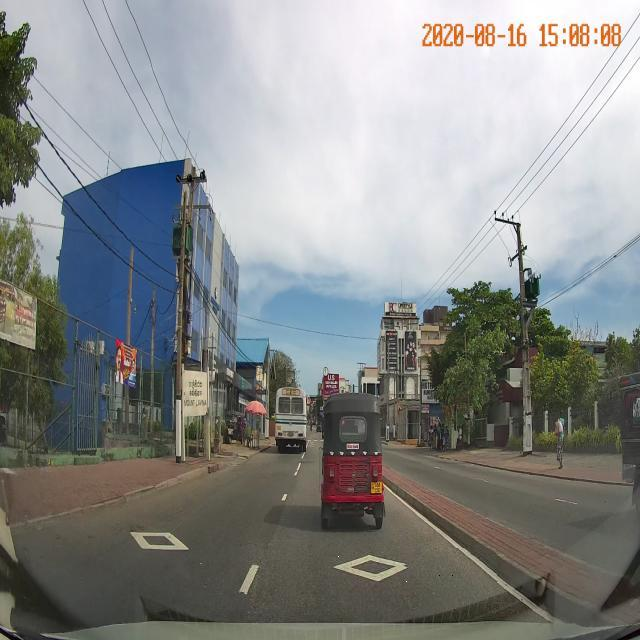diamond: (240, 549, 497, 593)
